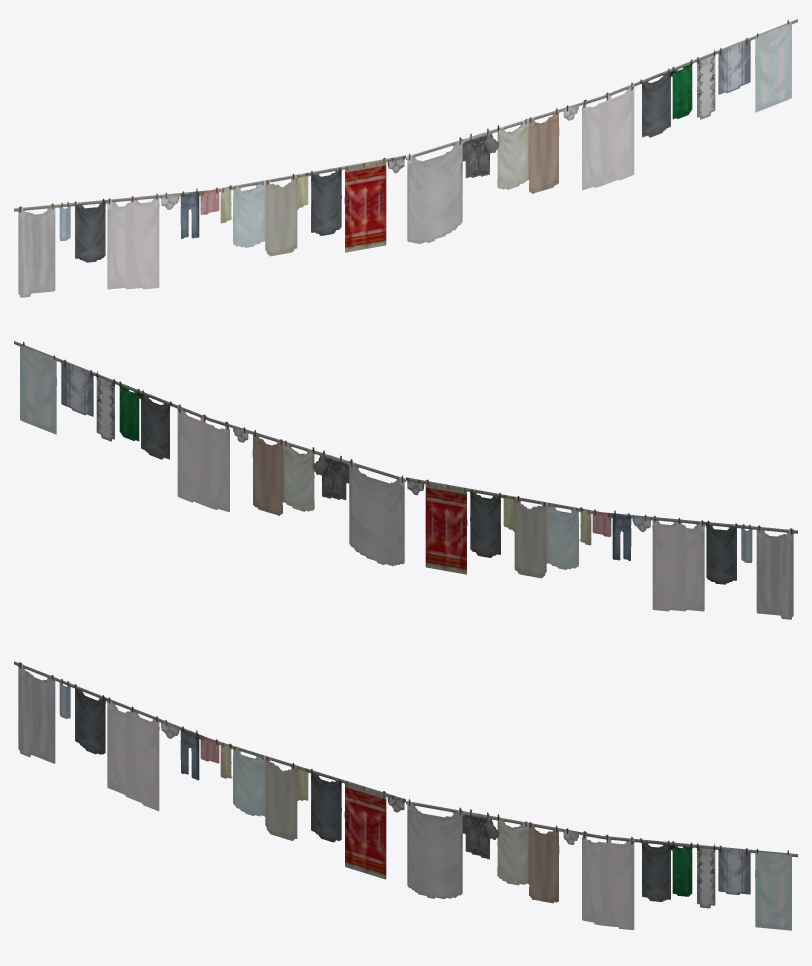
The model's file is WashingLineLong.glb.
3 renders of one model, top to bottom at view 1: azimuth 30°, elevation 25°; view 2: azimuth 150°, elevation 25°; view 3: azimuth 330°, elevation 25°, orthographic.
Visible parts, largest first — view 1: WASHINGLINELONG; view 2: WASHINGLINELONG; view 3: WASHINGLINELONG.
Part boxes in pixels (<box>): WASHINGLINELONG: <box>14,19,797,297</box>; WASHINGLINELONG: <box>14,341,797,619</box>; WASHINGLINELONG: <box>14,661,797,930</box>.
Bounding box in the file's own units: 12 × 2.12 × 0.
1 material, 1 textured.
